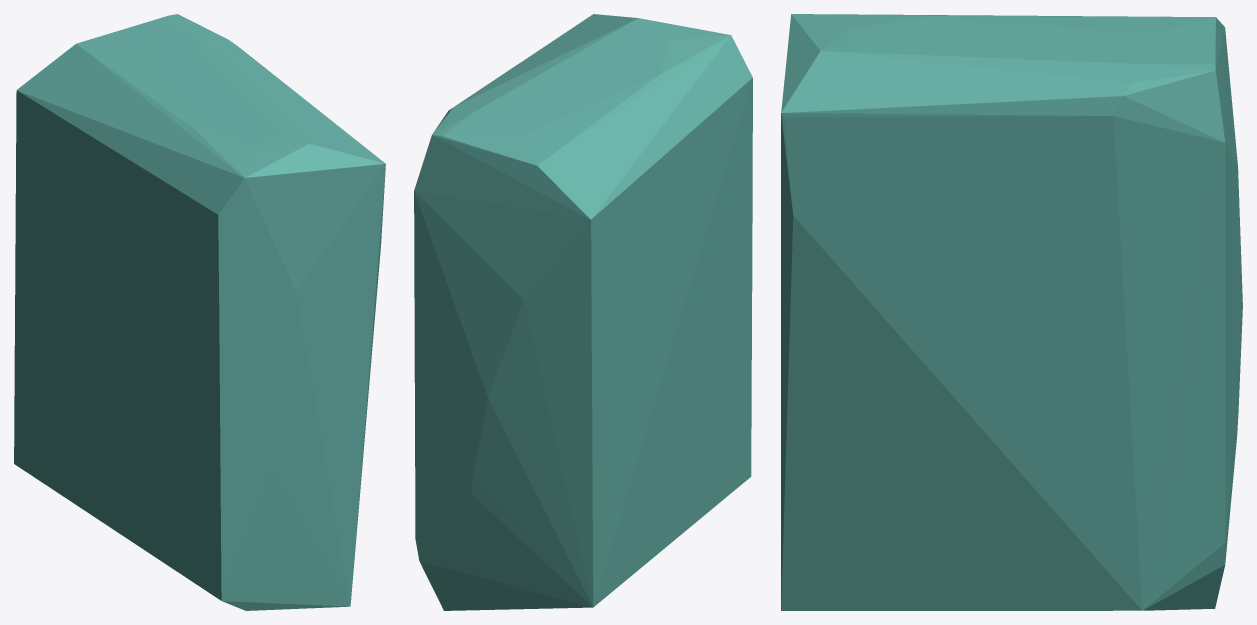
Rendered from testingTool_oscilloscope_a01.glb.
3 views of the same model, side by side, from view 1: azimuth 30°, elevation 25°; view 2: azimuth 150°, elevation 25°; view 3: azimuth 270°, elevation 25° (orthographic). The views are drawn at different scales.
Visible parts, largest first — view 1: geometry_0; view 2: geometry_0; view 3: geometry_0.
Boxes of the visible parts, x1,y1,x2,y2 form: geometry_0: (14,14,385,610); geometry_0: (414,14,752,610); geometry_0: (781,14,1242,610).
Bounding box in the file's own units: 0.2037 × 0.4795 × 0.3669.
